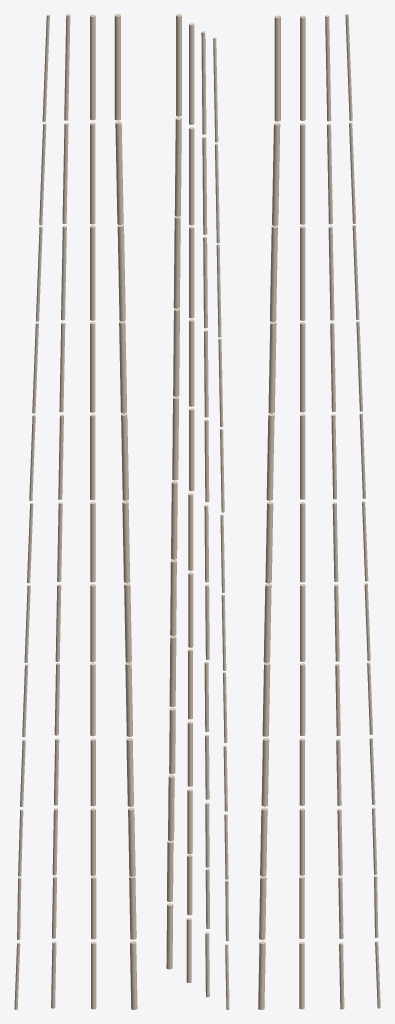
File: BassString.glb
3 renders of one model, left to right at view 1: azimuth 90°, elevation 25°; view 2: azimuth 210°, elevation 25°; view 3: azimuth 270°, elevation 25°, orthographic. The views are drawn at different scales.
Parts seen in each view (by area): view 1: S4_1, S4_2, S4_3, S4_4, S3_1, S4_5, S3_2, S4_6, S3_3, S4_7, S3_4, S4_8 (+29 smaller); view 2: S4_2, S4_3, S4_1, S3_1, S4_4, S3_2, S4_5, S3_3, S4_6, S4_7, S3_4, S3_5 (+36 smaller); view 3: S4_1, S4_2, S4_3, S4_4, S3_1, S4_5, S3_2, S4_6, S3_3, S4_7, S3_4, S4_8 (+29 smaller).
Boxes of the visible parts, <box> form: S4_1: <box>114,14,120,120</box>; S4_2: <box>115,121,123,224</box>; S4_3: <box>117,224,125,321</box>; S4_4: <box>119,321,126,413</box>; S3_1: <box>90,14,95,120</box>; S4_5: <box>121,413,128,500</box>; S3_2: <box>90,122,95,224</box>; S4_6: <box>122,501,130,582</box>; S3_3: <box>90,225,95,320</box>; S4_7: <box>124,583,131,662</box>; S3_4: <box>90,322,95,412</box>; S4_8: <box>125,662,132,736</box>; S4_2: <box>174,117,181,216</box>; S4_3: <box>173,216,180,308</box>; S4_1: <box>176,14,181,116</box>; S3_1: <box>189,23,194,124</box>; S4_4: <box>173,308,179,396</box>; S3_2: <box>189,127,194,225</box>; S4_5: <box>172,396,178,480</box>; S3_3: <box>189,226,194,318</box>; S4_6: <box>171,481,177,559</box>; S4_7: <box>170,559,176,635</box>; S3_4: <box>189,319,194,406</box>; S3_5: <box>189,408,194,491</box>; S4_1: <box>274,15,280,121</box>; S4_2: <box>272,122,280,225</box>; S4_3: <box>270,225,277,321</box>; S4_4: <box>268,321,276,413</box>; S3_1: <box>300,15,305,120</box>; S4_5: <box>266,413,274,500</box>; S3_2: <box>300,123,305,224</box>; S4_6: <box>265,501,273,583</box>; S3_3: <box>300,226,305,320</box>; S4_7: <box>263,583,271,662</box>; S3_4: <box>300,322,305,412</box>; S4_8: <box>262,662,270,736</box>.
Bounding box in the file's own units: 0.0127 × 1.5 × 0.1677.
